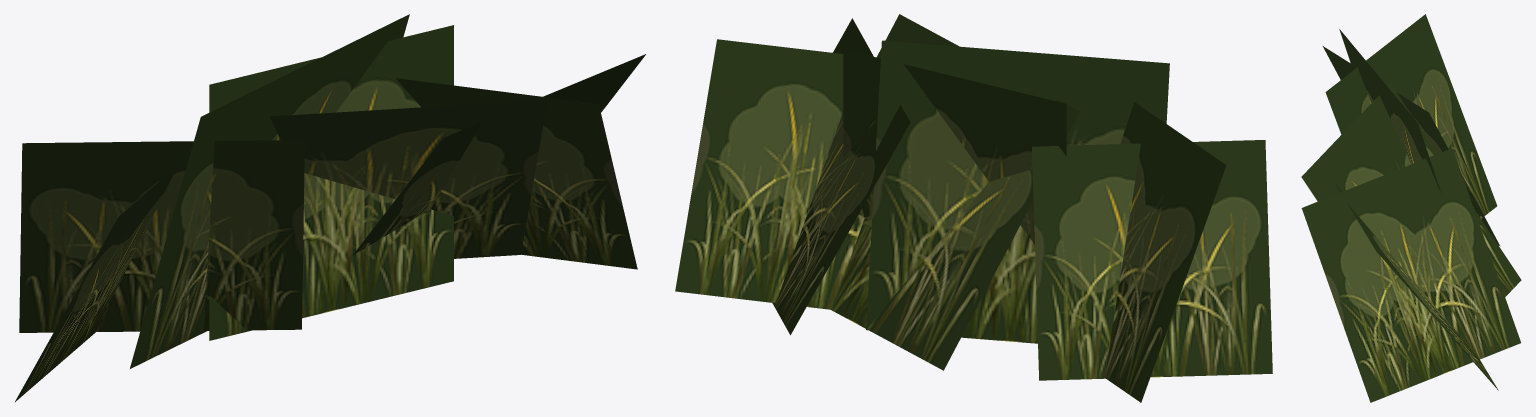
Rendered from plants_k009.FBX.
The picture shows the model from 3 angles, left to right: view 1: azimuth 30°, elevation 25°; view 2: azimuth 150°, elevation 25°; view 3: azimuth 270°, elevation 25°; orthographic projection. The views are drawn at different scales.
Visible parts, largest first — view 1: plants_k009; view 2: plants_k009; view 3: plants_k009.
Part boxes in pixels (left/top/right/bottom): plants_k009: left=15, top=14, right=645, bottom=401; plants_k009: left=675, top=14, right=1272, bottom=402; plants_k009: left=1301, top=14, right=1521, bottom=402.
Size of the model in its own units: 7.6 by 3.28 by 3.14.
1 material, 1 textured.
